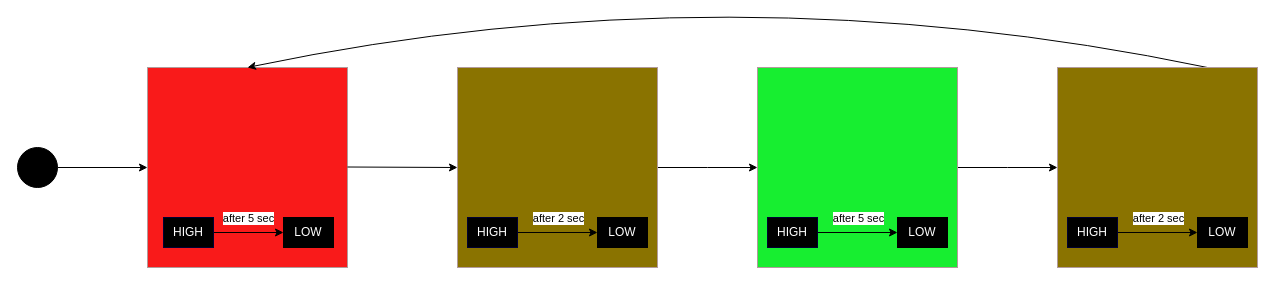
The diagram is 1275 pixels wide and 286 high, and some of its shapes have lost their labels. The shapes that lost their labels are listed below. From the top down, each one's box as (x1, y1, x2, y2) in pixels, then its label:
(146, 66, 348, 268): Red
(456, 66, 658, 268): Red + Yellow
(756, 66, 958, 268): Green
(1056, 66, 1258, 268): Yellow
